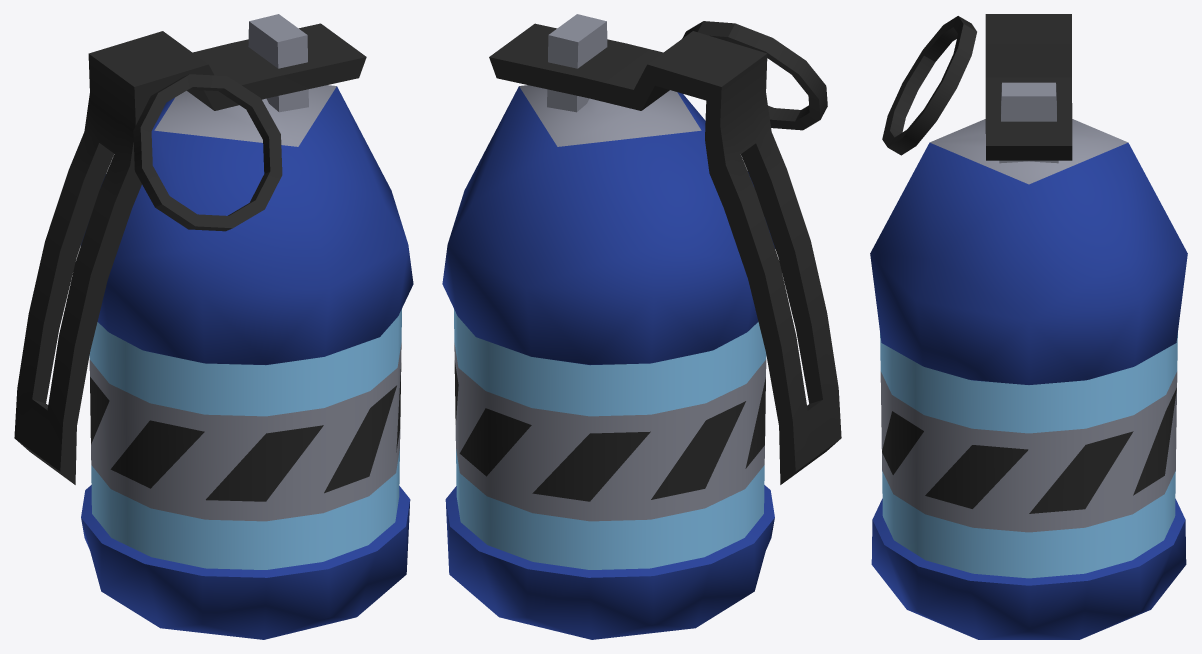
The model's file is FrostBomb 1.fbx.
3 renders of one model, left to right at view 1: azimuth 30°, elevation 25°; view 2: azimuth 150°, elevation 25°; view 3: azimuth 270°, elevation 25°, orthographic. The views are drawn at different scales.
Parts seen in each view (by area): view 1: FireGrenade; view 2: FireGrenade; view 3: FireGrenade.
Boxes of the visible parts, box(x1,y1,x2,y2) form: FireGrenade: box(14, 14, 413, 639); FireGrenade: box(442, 14, 841, 639); FireGrenade: box(870, 14, 1187, 639).
Bounding box in the file's own units: 1.14 × 1.7 × 0.9363.
